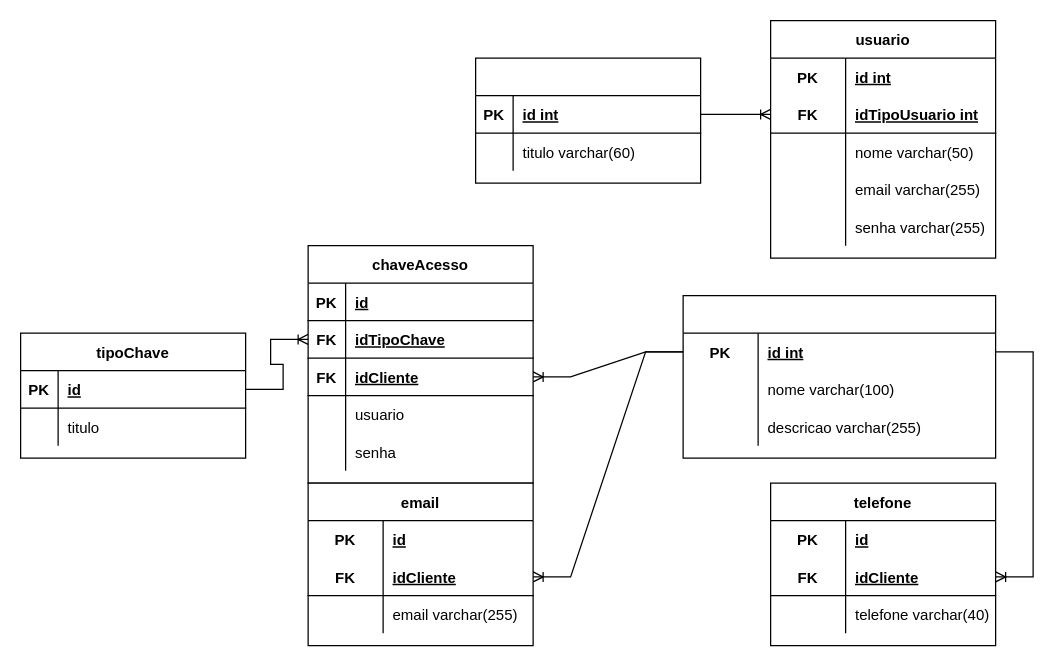
The diagram is 1054 pixels wide and 666 high, and some of its shapes have lost their labels. The box of each missing label's shape, as (x1, y1, x2, y2) in pixels:
cliente: (682, 294, 996, 458)
tipoUsuario: (474, 57, 701, 183)
